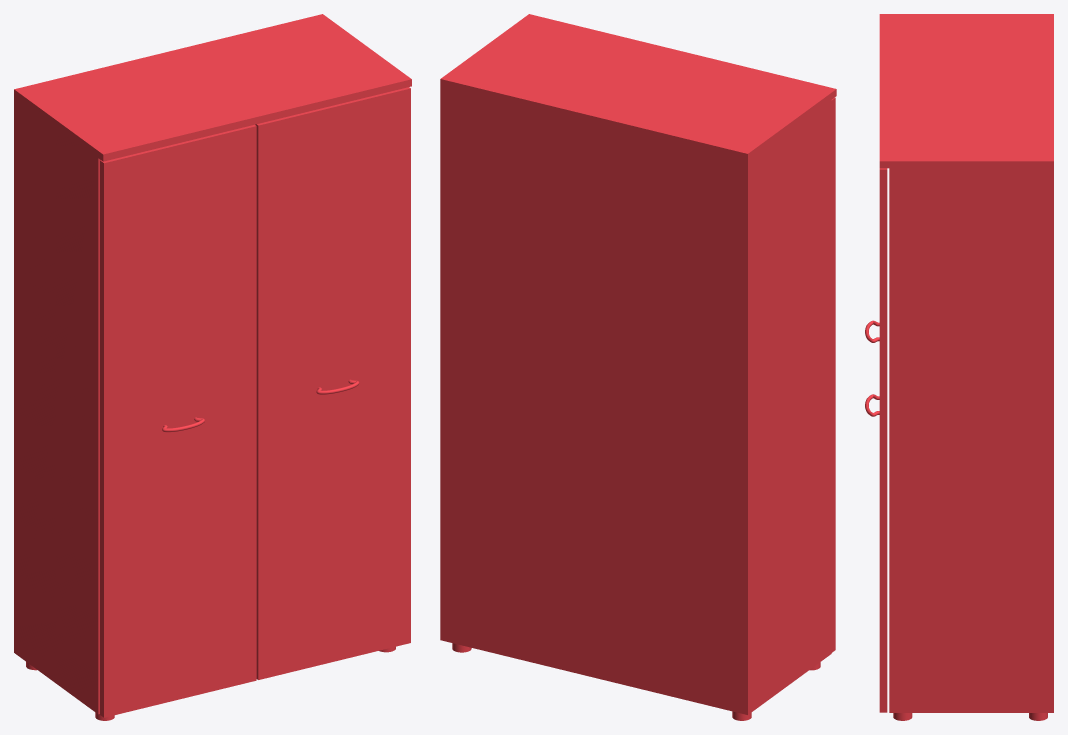
Rendered from sheelves_2.glb.
The picture shows the model from 3 angles, left to right: view 1: azimuth 30°, elevation 25°; view 2: azimuth 150°, elevation 25°; view 3: azimuth 270°, elevation 25°; orthographic projection. The views are drawn at different scales.
Visible parts, largest first — view 1: mobile90160W; view 2: mobile90160W; view 3: mobile90160W.
Boxes of the visible parts, left/top/right/bottom form: mobile90160W: left=14, top=14, right=411, bottom=720; mobile90160W: left=440, top=14, right=836, bottom=720; mobile90160W: left=865, top=14, right=1053, bottom=720.
Size of the model in its own units: 90 by 160 by 48.75.
